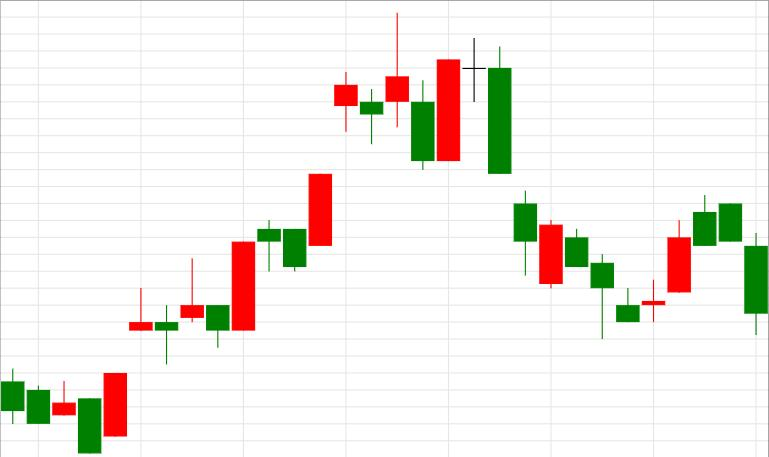shooting_star_fall: (232, 14, 408, 332)
